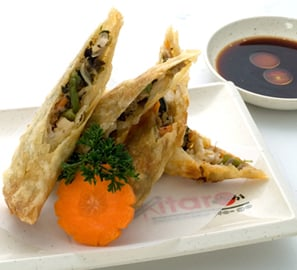curry: (59, 123, 141, 193)
pizza: (205, 15, 297, 112)
soup: (2, 22, 197, 248), (3, 6, 124, 241)
sushi: (204, 15, 297, 112)
